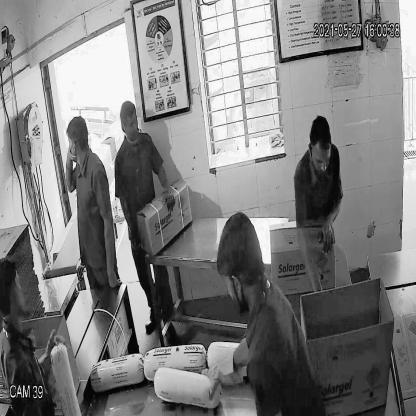no_goggles: (308, 147, 331, 170), (120, 117, 141, 133)
